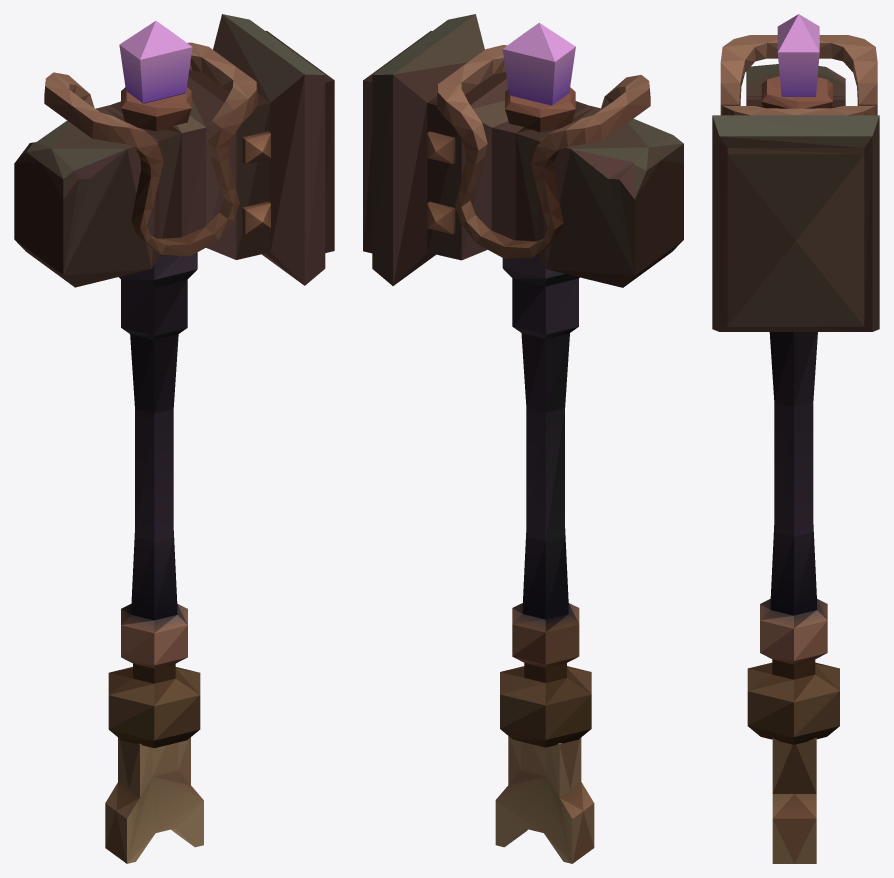
File: weapon_hammer_bronze_2.fbx
The picture shows the model from 3 angles, left to right: view 1: azimuth 30°, elevation 25°; view 2: azimuth 150°, elevation 25°; view 3: azimuth 270°, elevation 25°; orthographic projection.
Parts seen in each view (by area): view 1: weapon_hammer_bronze_2; view 2: weapon_hammer_bronze_2; view 3: weapon_hammer_bronze_2.
Boxes of the visible parts, <box> form: weapon_hammer_bronze_2: <box>14,14,334,863</box>; weapon_hammer_bronze_2: <box>363,14,683,863</box>; weapon_hammer_bronze_2: <box>712,14,879,863</box>.
Bounding box in the file's own units: 0.9844 × 2.95 × 0.5371.
